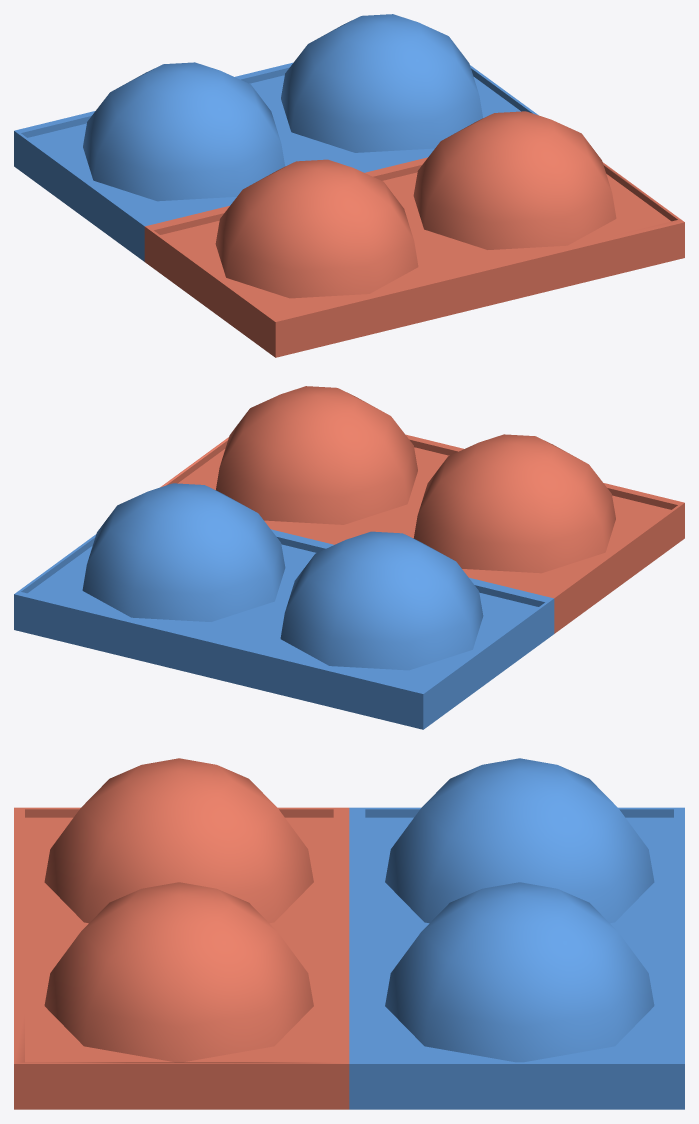
File: Pop-it2.fbx
3 renders of one model, top to bottom at view 1: azimuth 30°, elevation 25°; view 2: azimuth 150°, elevation 25°; view 3: azimuth 270°, elevation 25°, orthographic. The views are drawn at different scales.
Parts seen in each view (by area): view 1: Sphere.004; view 2: Sphere.004; view 3: Sphere.004.
Boxes of the visible parts, x1,y1,x2,y2 form: Sphere.004: [14, 14, 684, 357]; Sphere.004: [14, 386, 684, 729]; Sphere.004: [14, 758, 684, 1109].
Bounding box in the file's own units: 434 × 117 × 481.
